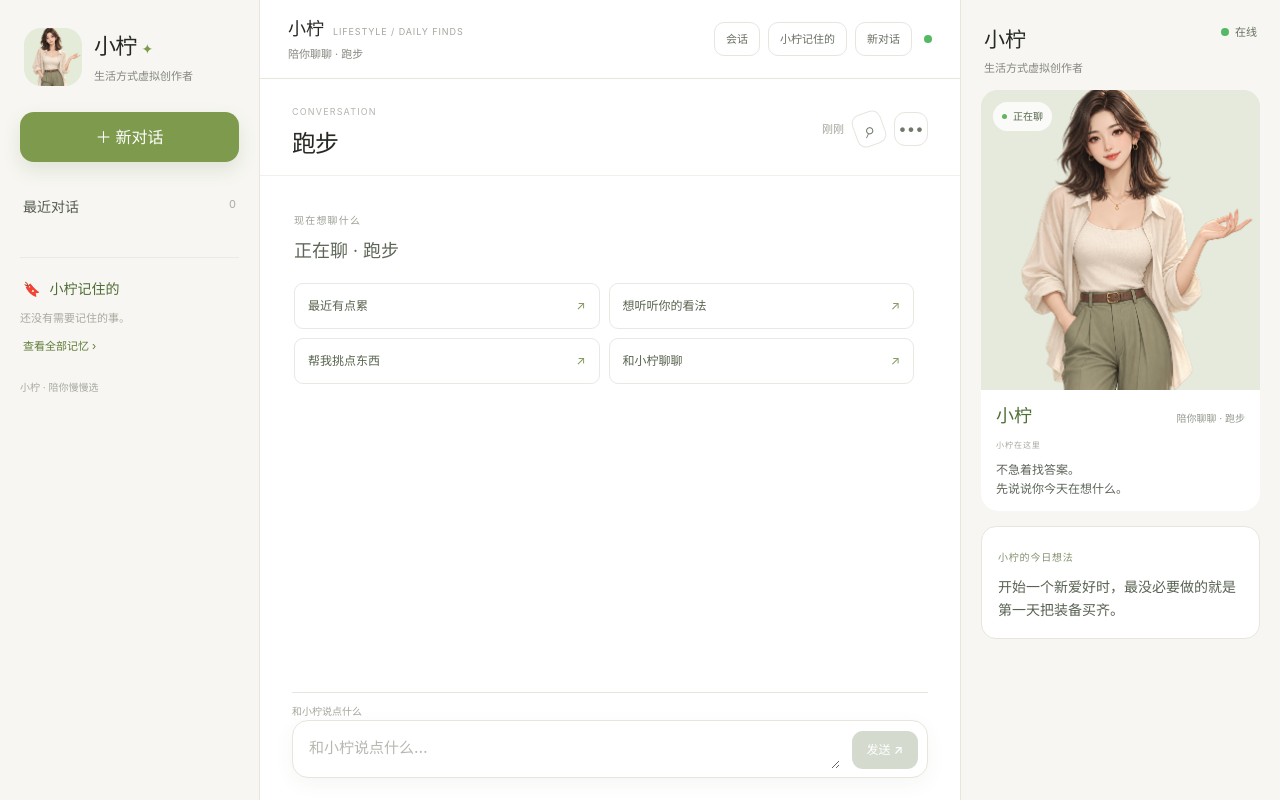
Scenario: Final Creator Home › maps an explicitly positive moment to the happy stage state
Expected: the element with test id "avatar-stage" is shown, [981,90,1260,511]
Type "今天项目终于做完了，松了一大口气" into the text box with placeholder "和小柠说点什么…". click: (574, 750)
box: [309,731,840,769]
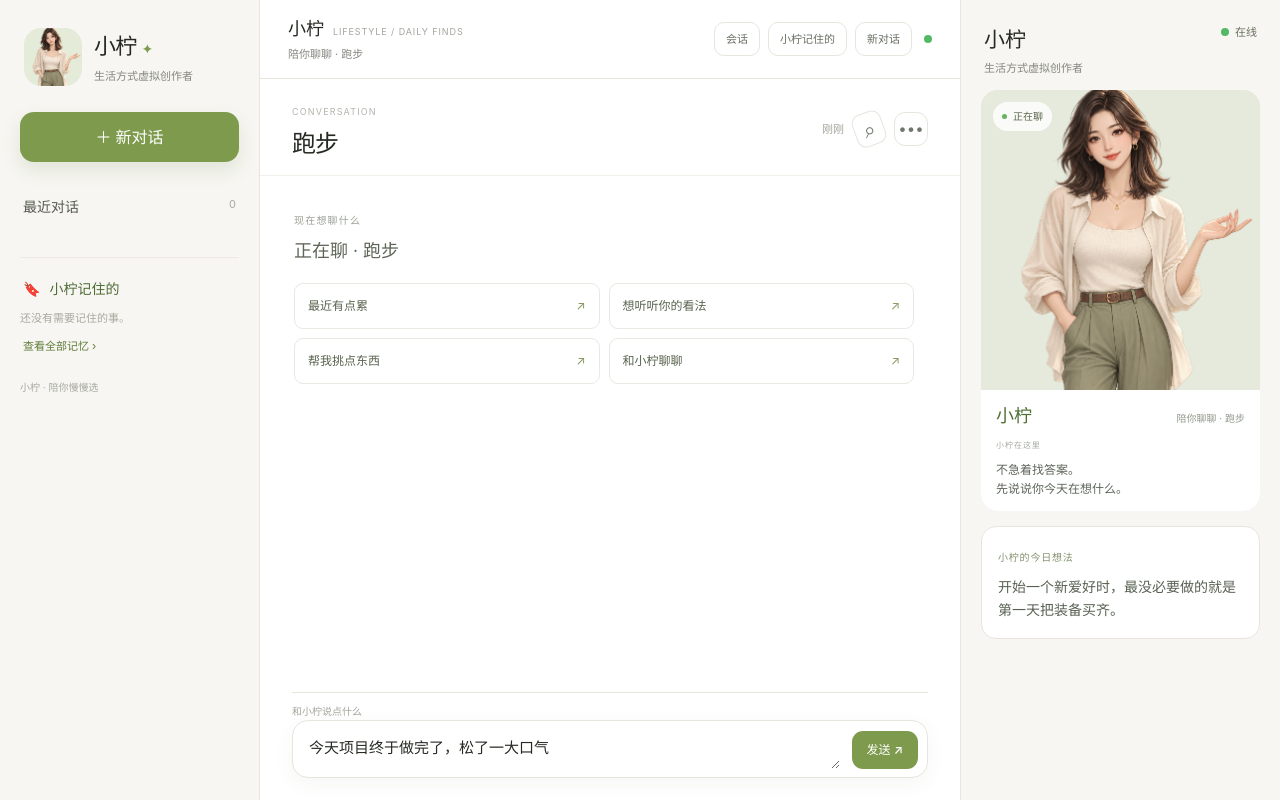
Click the button "发送 ↗". click: (885, 750)
box: [852,731,918,769]
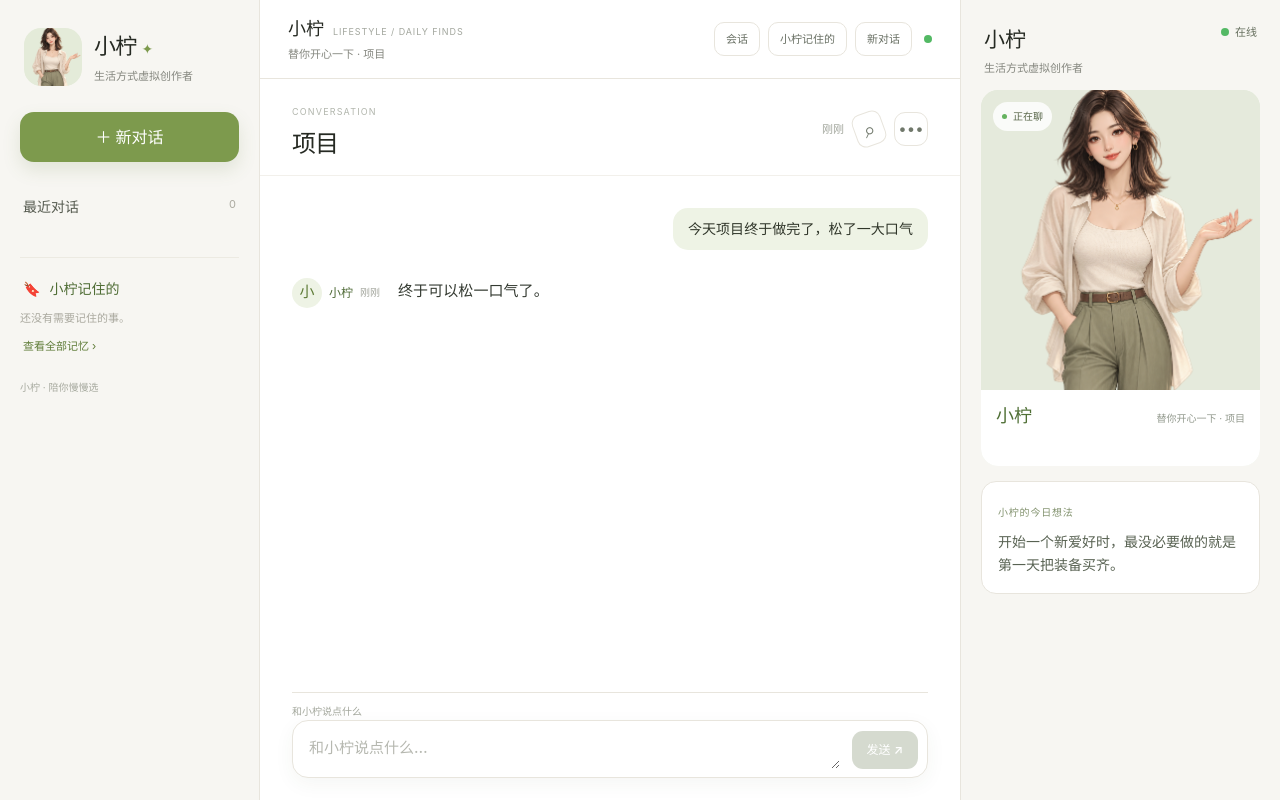
Now the text "终于可以松一口气了。" is shown, box [398,281,549,300]
